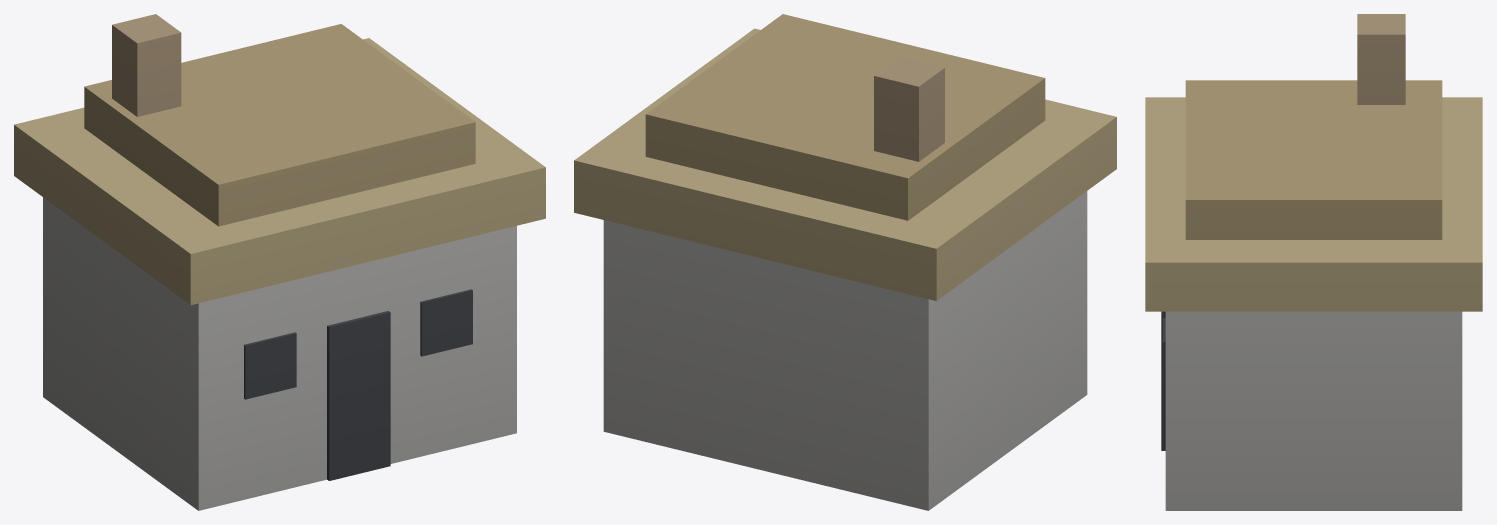
File: cottage.glb
The picture shows the model from 3 angles, left to right: view 1: azimuth 30°, elevation 25°; view 2: azimuth 150°, elevation 25°; view 3: azimuth 270°, elevation 25°; orthographic projection. The views are drawn at different scales.
Visible parts, largest first — view 1: root; view 2: root; view 3: root.
Boxes of the visible parts, x1,y1,x2,y2 form: root: [14, 14, 545, 510]; root: [574, 14, 1116, 510]; root: [1145, 14, 1482, 510].
Size of the model in its own units: 2.9 by 3 by 2.5.
